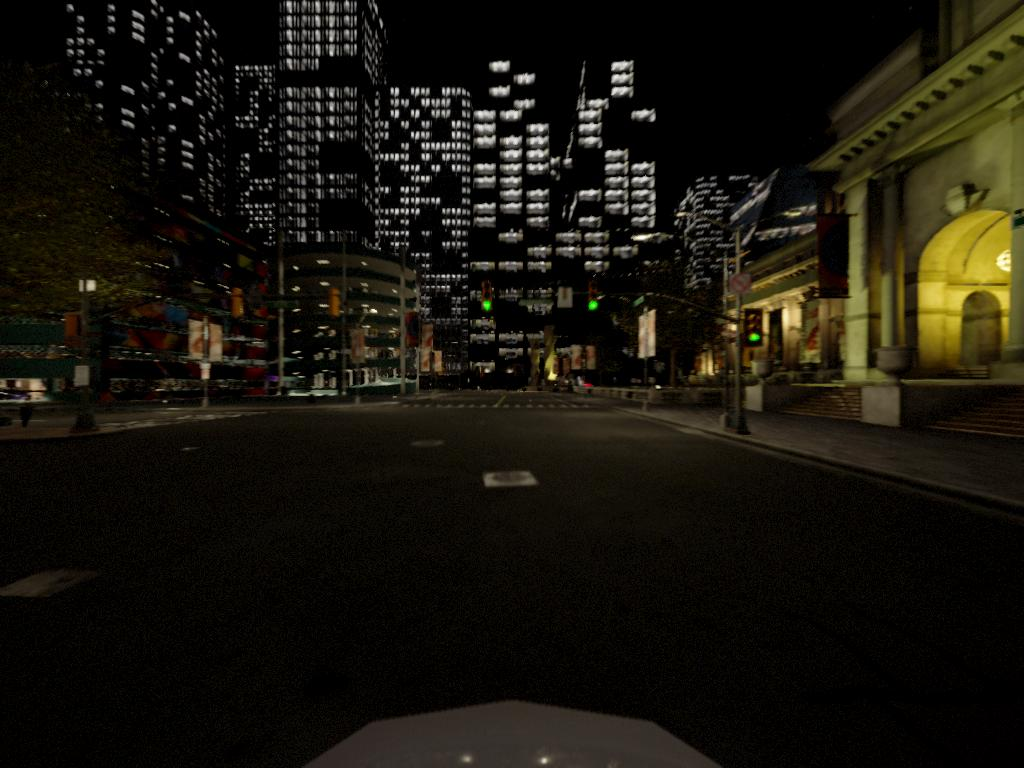traffic_light: (746, 312, 766, 348), (231, 288, 246, 319), (480, 283, 495, 313), (588, 278, 600, 314), (328, 288, 340, 319)
